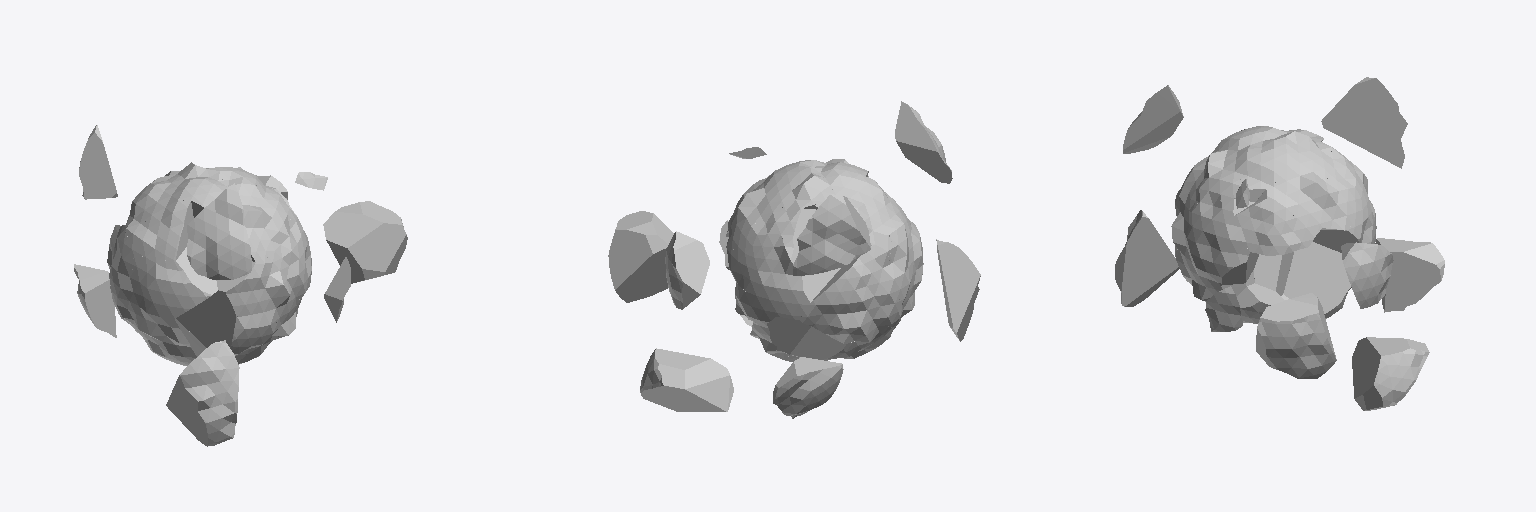
File: Null_Planet2.obj
3 renders of one model, left to right at view 1: azimuth 30°, elevation 25°; view 2: azimuth 150°, elevation 25°; view 3: azimuth 270°, elevation 25°, orthographic.
Parts seen in each view (by area): view 1: Icosphere_cell.017_Icosphere_cell.014; view 2: Icosphere_cell.017_Icosphere_cell.014; view 3: Icosphere_cell.017_Icosphere_cell.014.
Part boxes in pixels (x1,y1,x2,y2): Icosphere_cell.017_Icosphere_cell.014: (74,125,407,446); Icosphere_cell.017_Icosphere_cell.014: (608,101,980,418); Icosphere_cell.017_Icosphere_cell.014: (1115,77,1444,410).
Bounding box in the file's own units: 122 × 107 × 120.